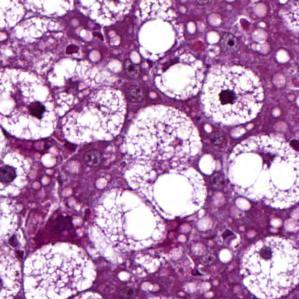ballooning: (227, 130, 297, 215), (23, 238, 97, 296), (4, 65, 59, 142), (200, 65, 266, 128), (236, 234, 297, 296)
